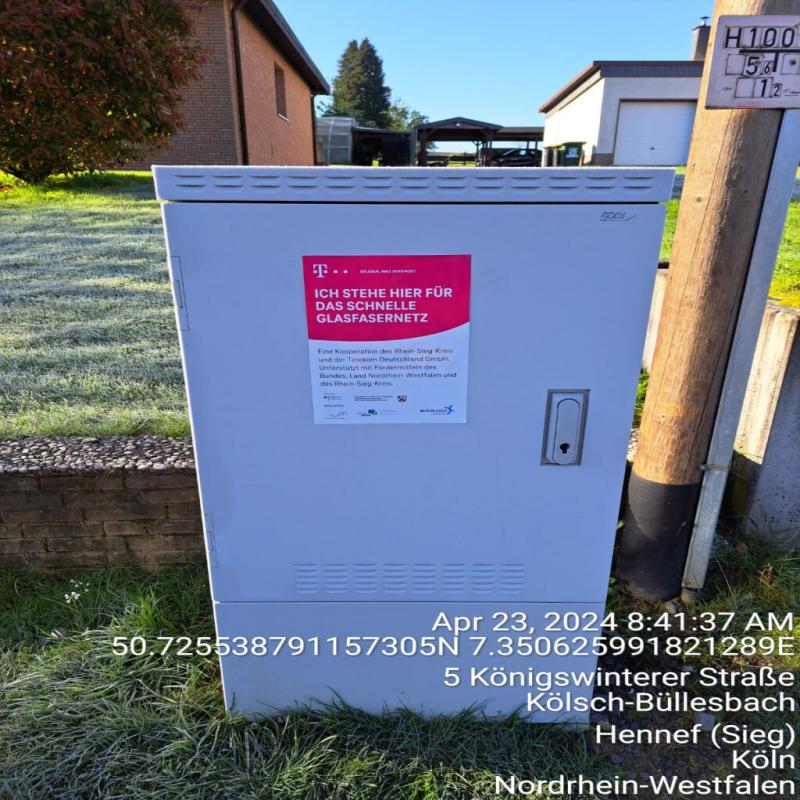NT-Gehause: (145, 165, 679, 621)
Steaker: (300, 258, 470, 428)
